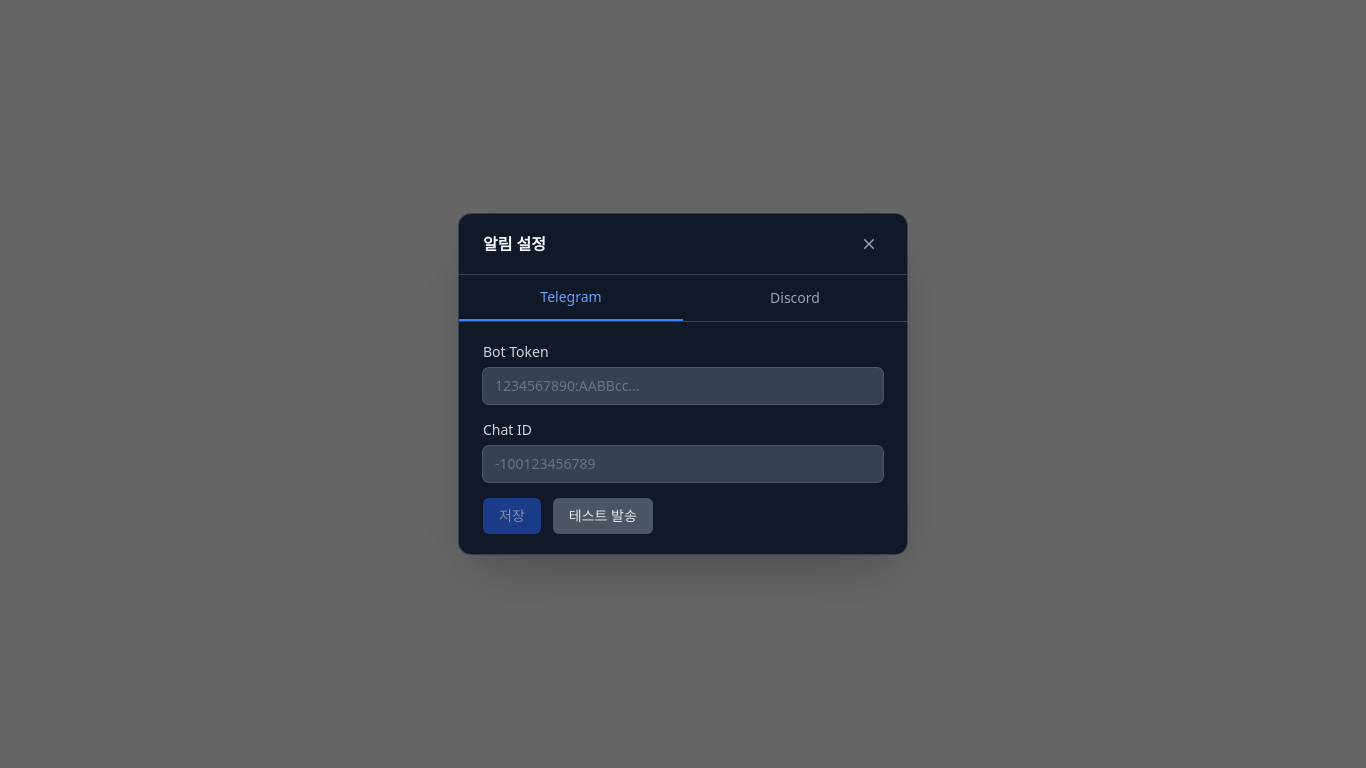
SettingsDialog › Telegram 테스트 발송 실패 시 오류 텍스트를 표시한다
Type "bad-token" into the password field labelled "Bot Token" at (683, 386), box [483,368,883,404]
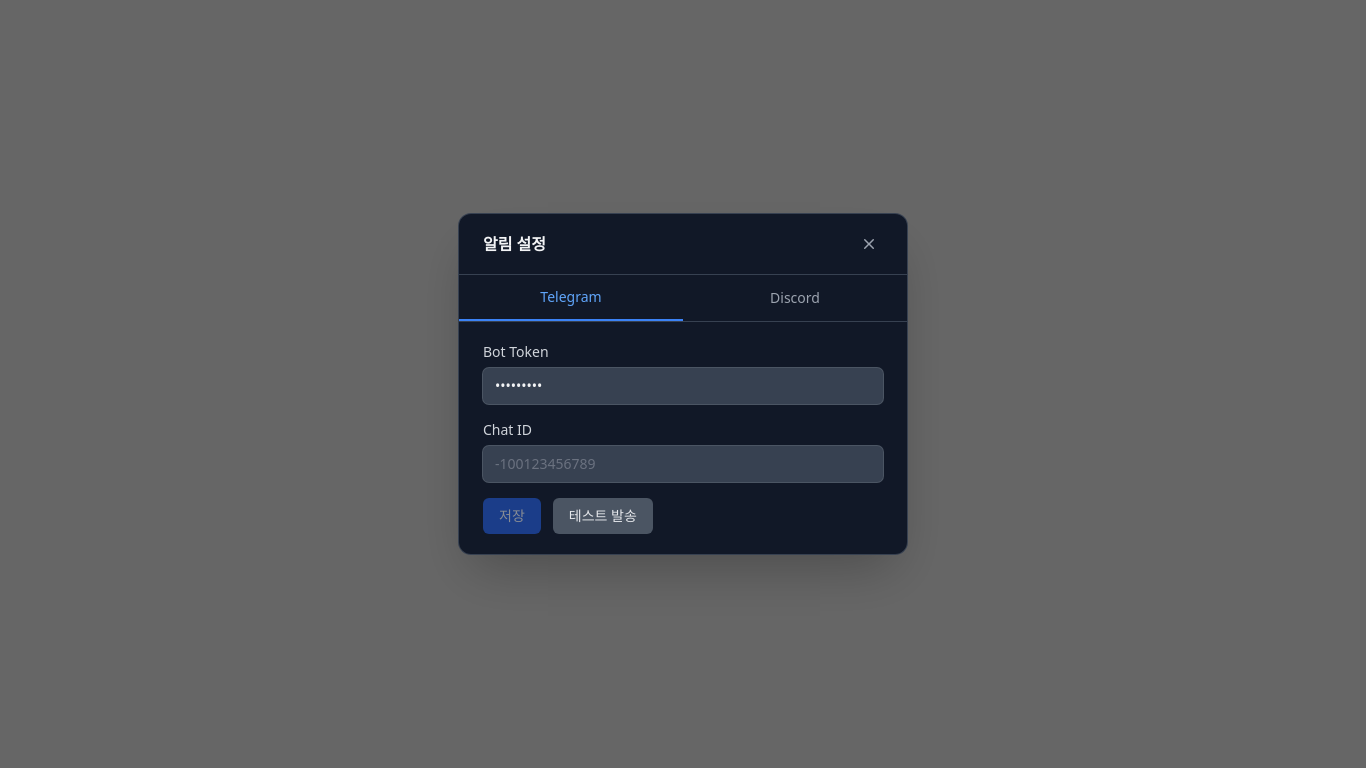
Type "-999" into the field labelled "Chat ID" at (683, 464), box [483,446,883,482]
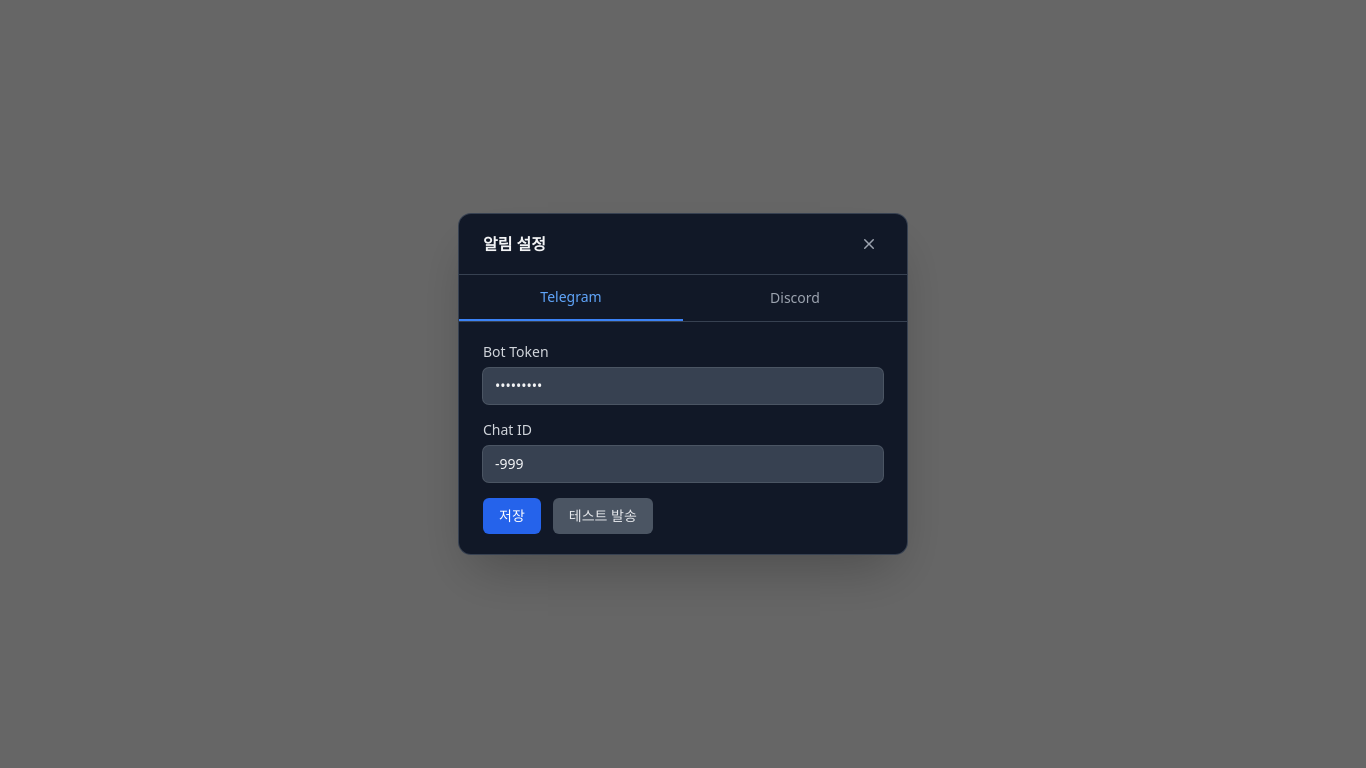
Click the button "테스트 발송" at (603, 516), box [553,498,653,534]
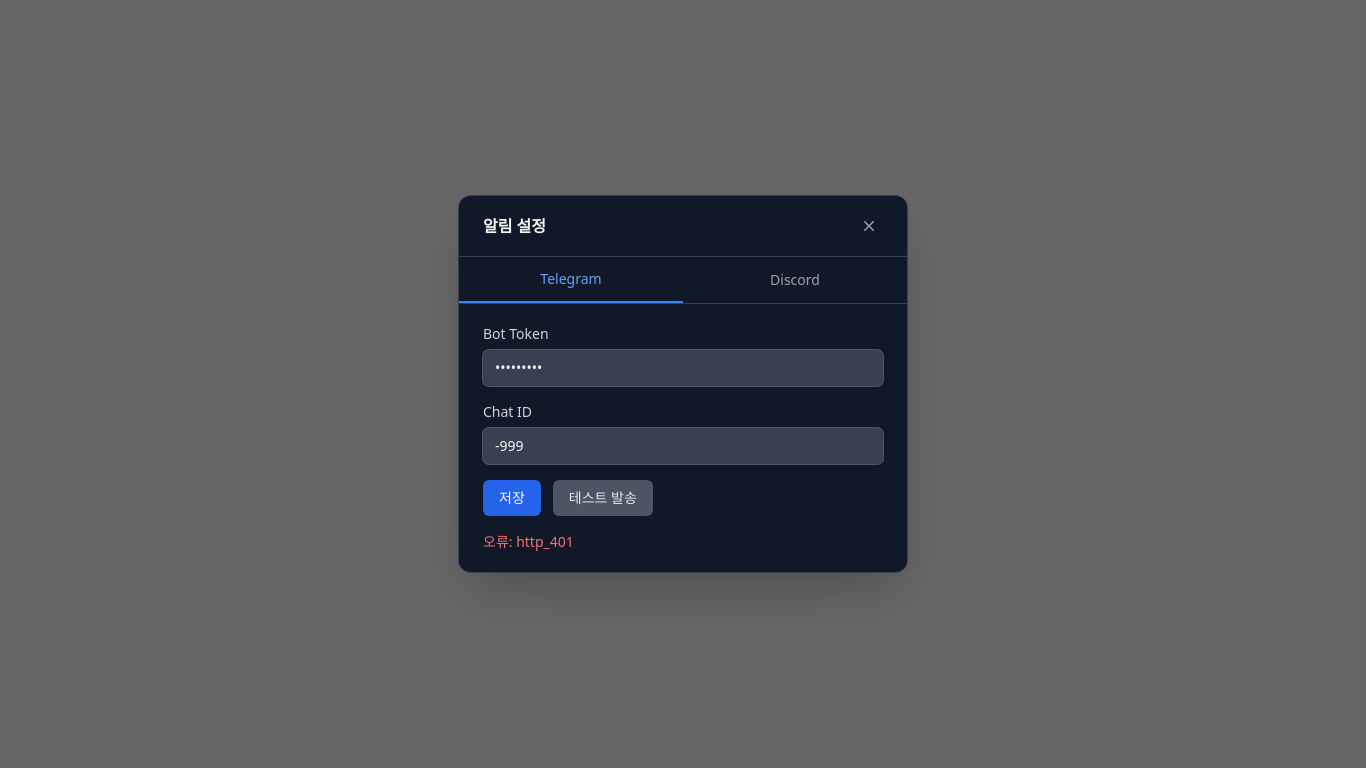
Now the text "오류: http_401" is shown, box [483,532,574,551]
